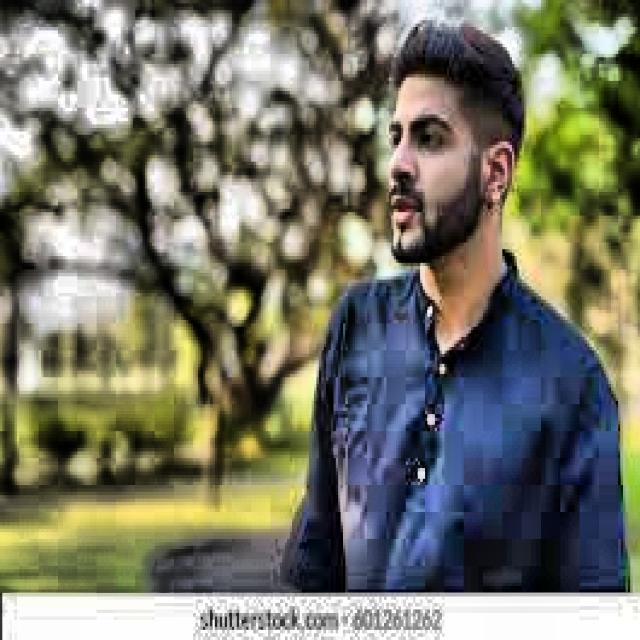Human: (284, 6, 628, 628)
